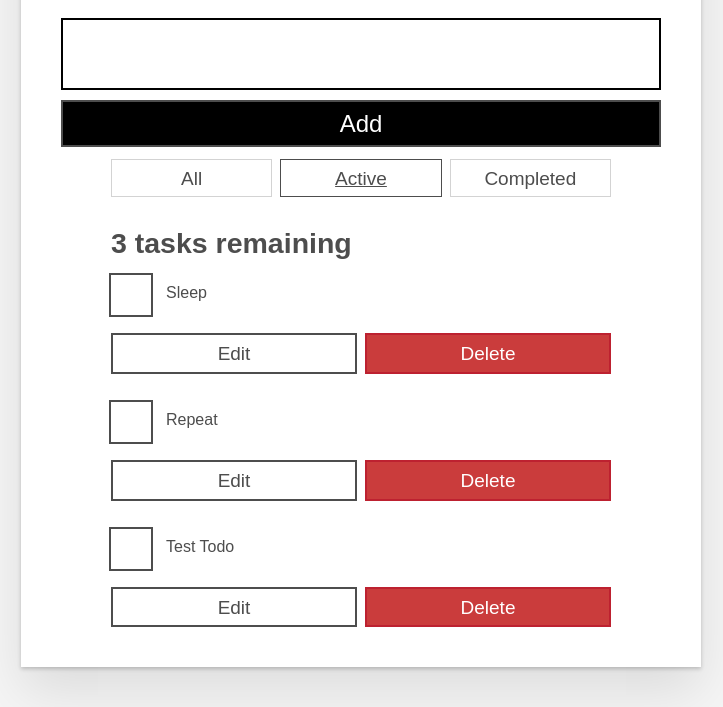
it: Todolist tasks › can filter for completed tasks
(page scrolled)
What coordinates should you click on to do the following:
click the button "Completed"
I would click on:
 (531, 179)
Its box is [450, 159, 611, 198].
(page scrolled)
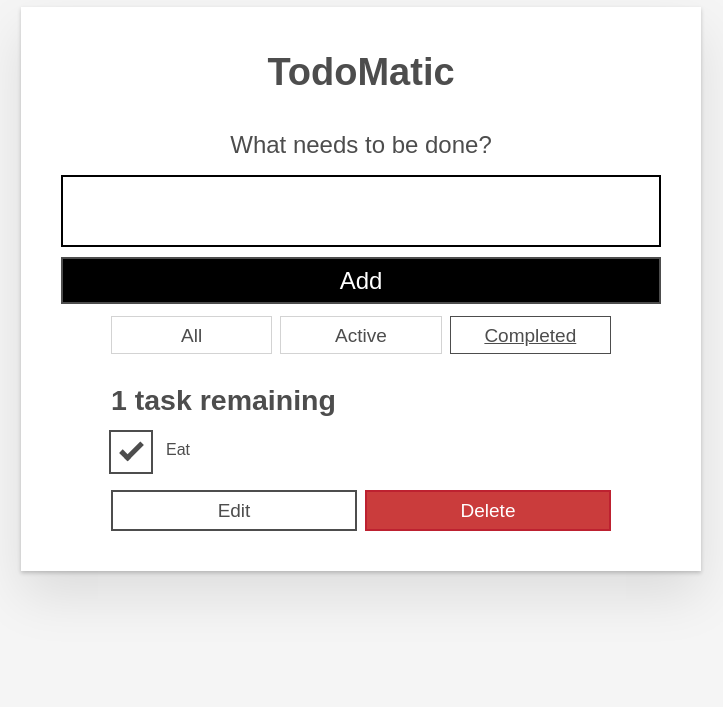
Expected: the number of list items is 1, [111, 432, 611, 531]
Expected: the checkbox "Sleep" is gone
Expected: the checkbox "Repeat" is gone
